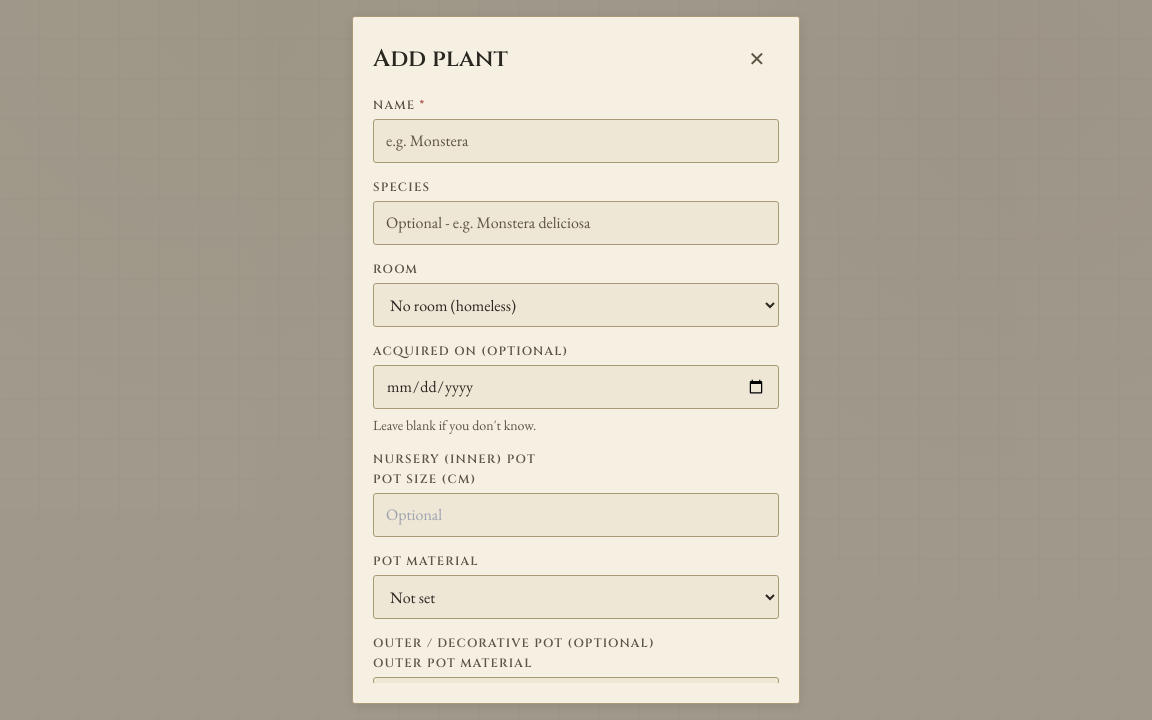
Test: PlantFormModal pot size validation (VIRIDARIUM-47) › rejects a decimal pot size with a field error and never submits
In the field labelled "Name *": (576, 141) [373, 119, 779, 163], type "Monstera"
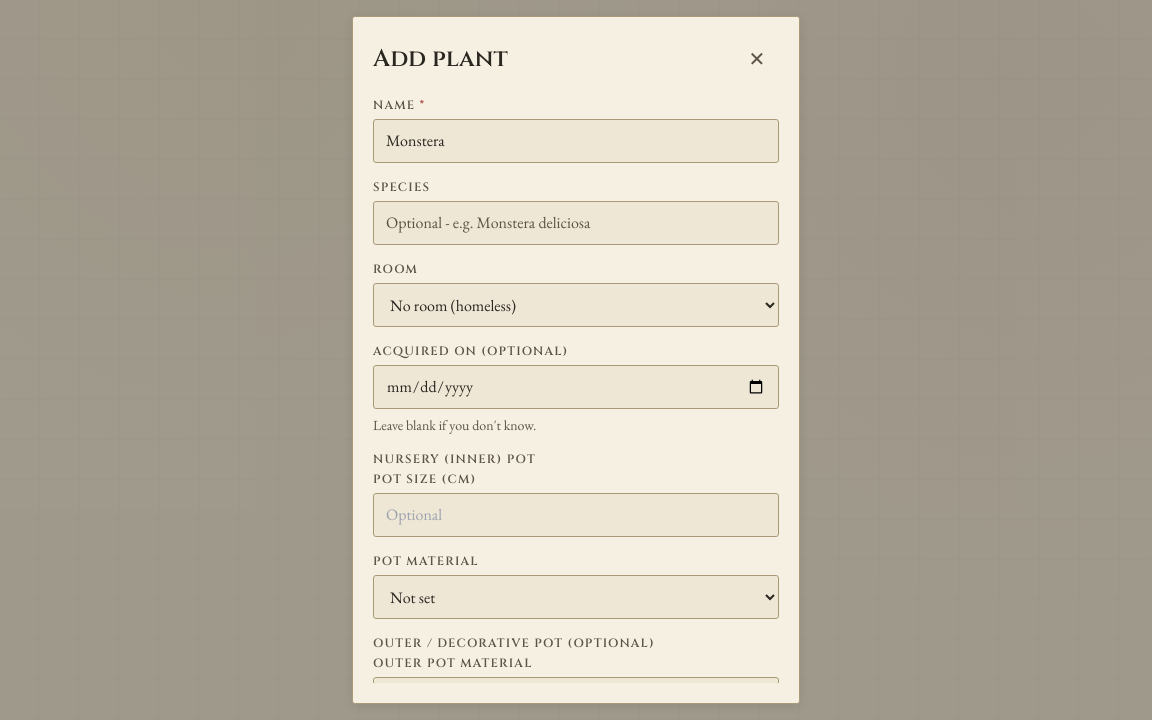
In the number field labelled "Pot size (cm)": (576, 515) [373, 493, 779, 537], type "3.7"
(page scrolled)
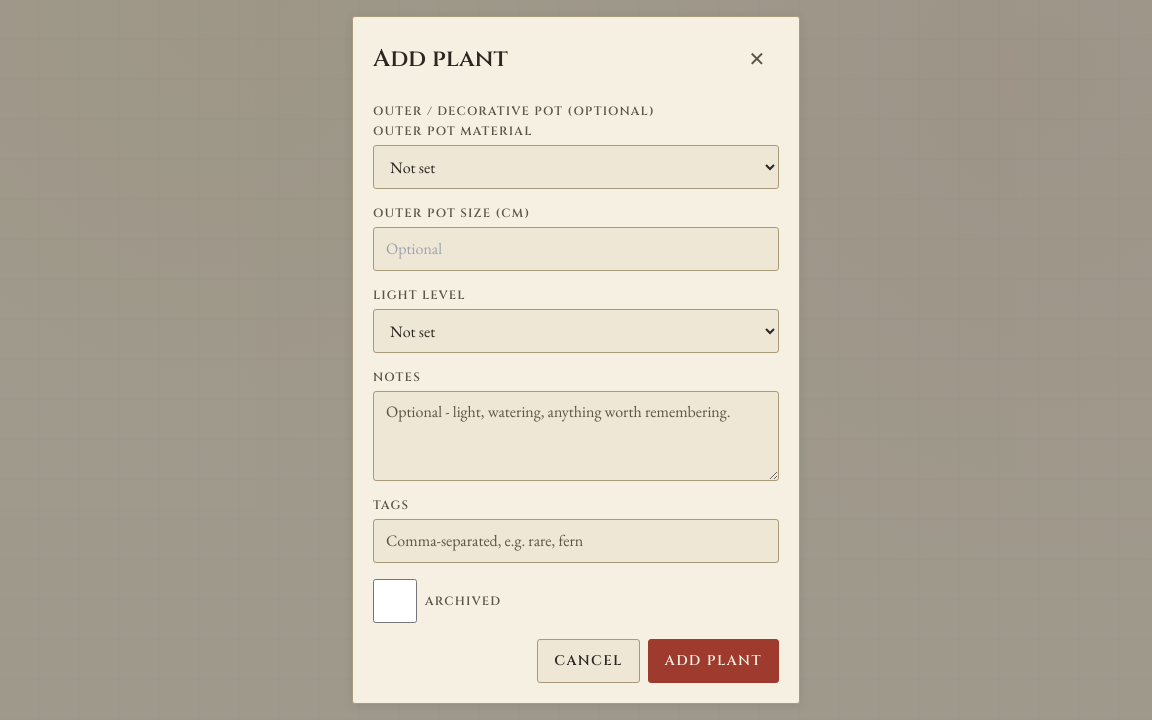
Click the button "Add plant": (713, 661) [648, 639, 779, 683]
(page scrolled)
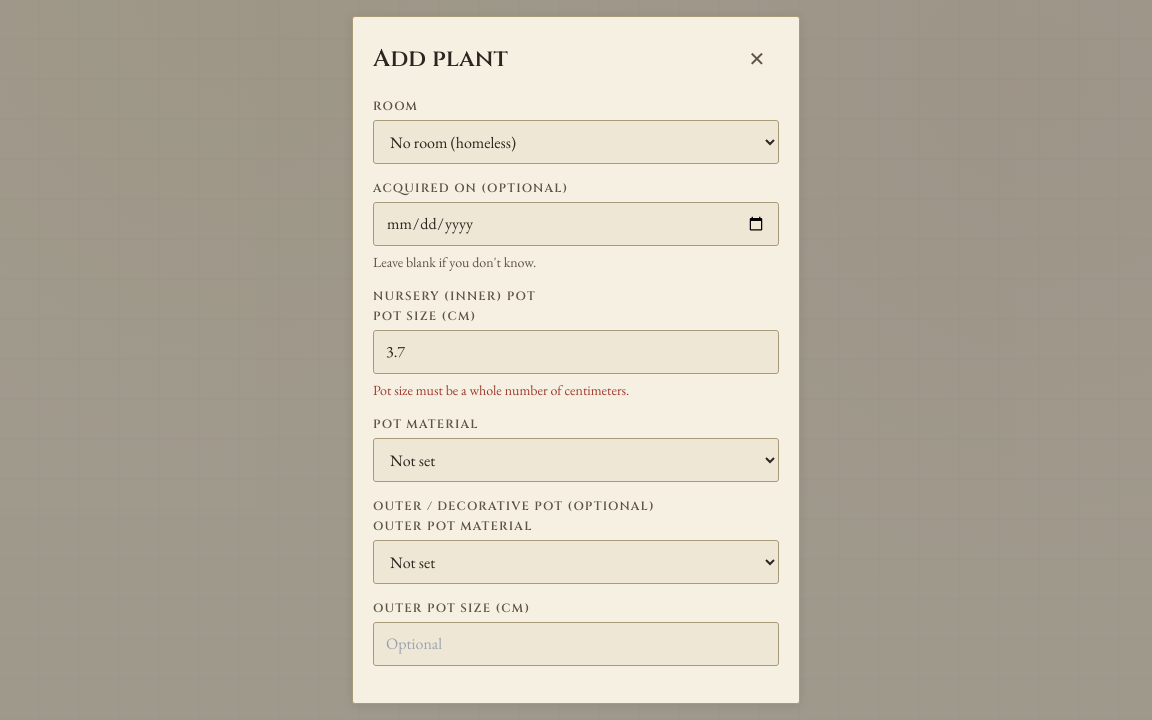
Expected: the message shows "whole number", [373, 381, 629, 399]
